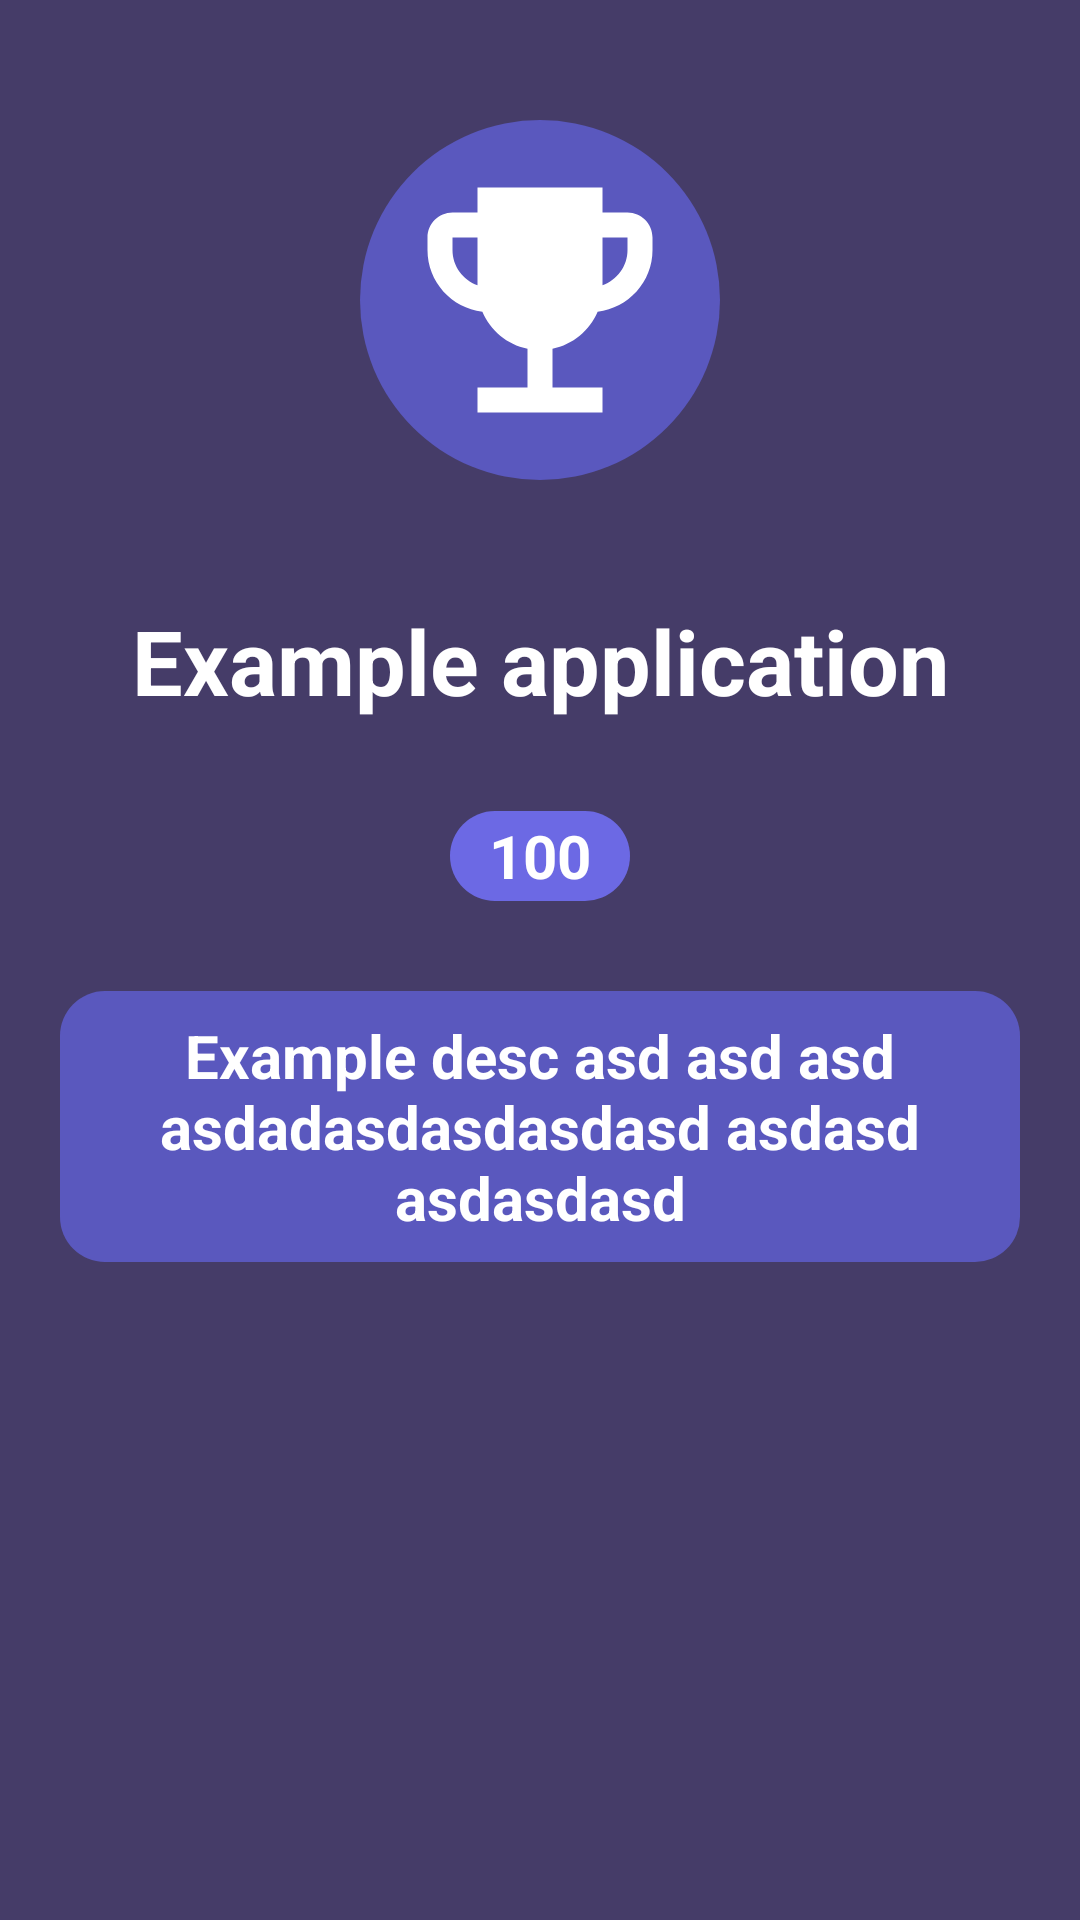

Named icons in this screenshot (1080 × 1920) and their centers, (x=x, y=y):
achievement item: (x=540, y=300)
